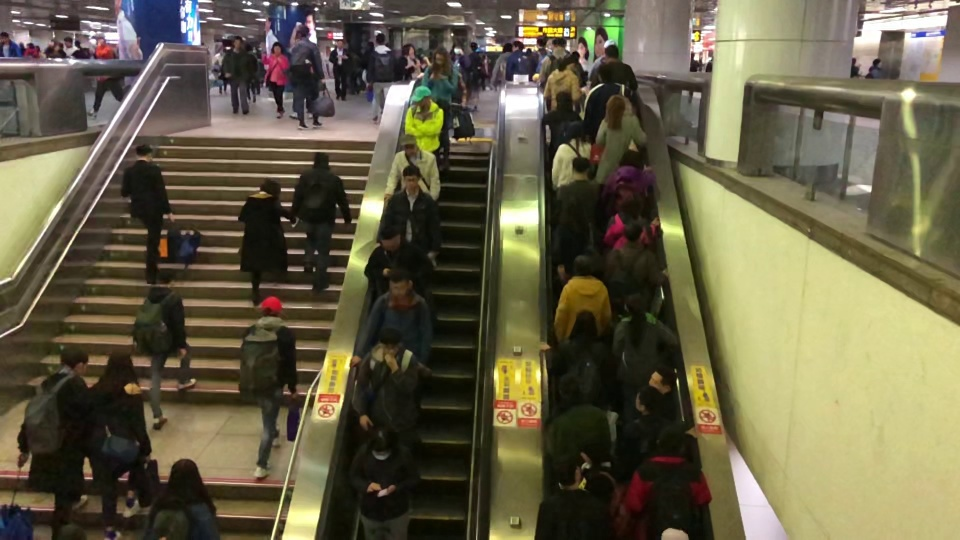person_head: (167, 459, 203, 498), (552, 456, 582, 494), (369, 424, 397, 462), (655, 424, 686, 458), (59, 342, 90, 375), (648, 364, 678, 397), (634, 385, 664, 415), (569, 308, 597, 339), (387, 266, 414, 298), (603, 93, 626, 130), (616, 190, 647, 217), (105, 351, 136, 377), (578, 437, 606, 464), (379, 222, 403, 253), (557, 375, 582, 403), (621, 291, 648, 316), (570, 251, 596, 276), (380, 326, 402, 355), (560, 197, 585, 222), (409, 85, 433, 111), (617, 147, 645, 169), (430, 46, 450, 76), (401, 164, 422, 192), (564, 119, 586, 144), (258, 296, 284, 317), (398, 131, 419, 157), (622, 216, 644, 240), (571, 155, 590, 179), (260, 177, 282, 197), (596, 62, 616, 82), (555, 91, 574, 112), (158, 268, 176, 288), (135, 142, 153, 161), (313, 150, 329, 170), (557, 56, 577, 72), (604, 44, 619, 63), (297, 23, 311, 42), (402, 41, 417, 57), (551, 37, 567, 51), (93, 31, 107, 46), (451, 40, 465, 55), (512, 38, 525, 53), (270, 40, 282, 54), (375, 31, 386, 46), (62, 35, 73, 49), (535, 35, 546, 49), (233, 34, 242, 50), (467, 40, 478, 53), (0, 31, 10, 44), (502, 41, 513, 52), (872, 57, 883, 67), (336, 38, 344, 48), (851, 56, 857, 66), (690, 49, 695, 60)
person_vbox: (16, 345, 142, 536), (351, 324, 421, 516), (86, 352, 152, 540), (613, 428, 714, 540), (238, 294, 298, 479), (131, 267, 197, 430), (348, 268, 433, 378), (290, 152, 354, 289), (348, 422, 420, 540), (381, 132, 442, 267), (616, 387, 700, 482), (120, 144, 176, 285), (238, 178, 297, 306), (538, 309, 614, 406), (611, 291, 680, 397), (531, 455, 613, 540), (543, 375, 612, 475), (603, 217, 669, 319), (139, 459, 222, 539), (375, 165, 441, 259), (363, 221, 435, 304), (553, 252, 613, 346), (550, 155, 600, 267), (595, 96, 650, 186), (597, 151, 658, 231), (422, 46, 458, 171), (583, 64, 636, 144), (84, 31, 132, 119), (289, 24, 326, 130), (601, 190, 661, 252), (553, 197, 596, 283), (403, 84, 444, 166), (551, 122, 594, 200), (576, 430, 619, 502), (364, 32, 397, 124), (540, 92, 583, 160), (221, 36, 257, 115), (543, 56, 590, 110), (261, 41, 291, 119), (591, 45, 638, 92), (540, 36, 580, 89), (464, 40, 483, 114), (328, 38, 350, 100), (489, 42, 514, 86), (395, 42, 421, 82), (525, 36, 549, 79), (506, 40, 530, 80), (448, 41, 472, 79), (683, 47, 698, 104), (864, 56, 886, 82), (60, 35, 82, 60), (0, 31, 21, 57), (849, 54, 863, 78)
